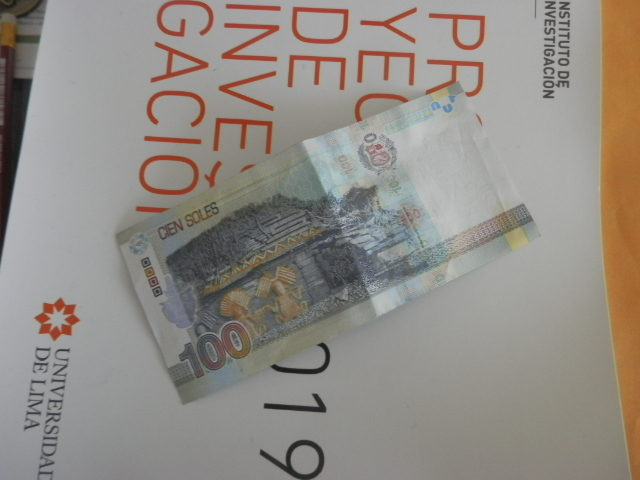B100: (109, 69, 552, 418)
